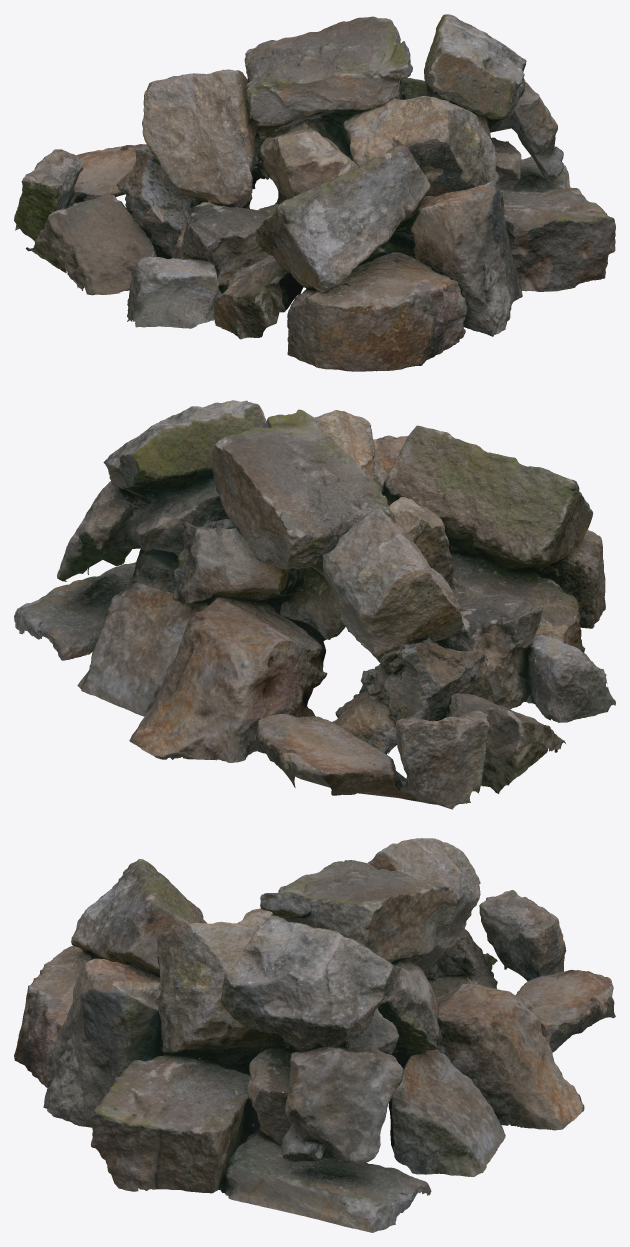
Rendered from sf-dirty-stones-pile-893e64.glb.
The picture shows the model from 3 angles, top to bottom: view 1: azimuth 30°, elevation 25°; view 2: azimuth 150°, elevation 25°; view 3: azimuth 270°, elevation 25°; orthographic projection. The views are drawn at different scales.
Visible parts, largest first — view 1: Model_material2_0, Model_material0_0, Model_material1_0; view 2: Model_material2_0, Model_material1_0, Model_material0_0; view 3: Model_material2_0, Model_material1_0, Model_material0_0.
Part boxes in pixels (<box>): Model_material2_0: <box>22,14,577,371</box>; Model_material0_0: <box>61,25,615,366</box>; Model_material1_0: <box>14,69,615,345</box>; Model_material2_0: <box>14,400,603,794</box>; Model_material1_0: <box>57,411,615,809</box>; Model_material0_0: <box>87,409,615,808</box>; Model_material2_0: <box>14,838,615,1232</box>; Model_material1_0: <box>38,838,612,1174</box>; Model_material0_0: <box>66,860,595,1193</box>.
Bounding box in the file's own units: 10.86 × 4.36 × 10.3.
Materials: 3 (3 with a texture image).
